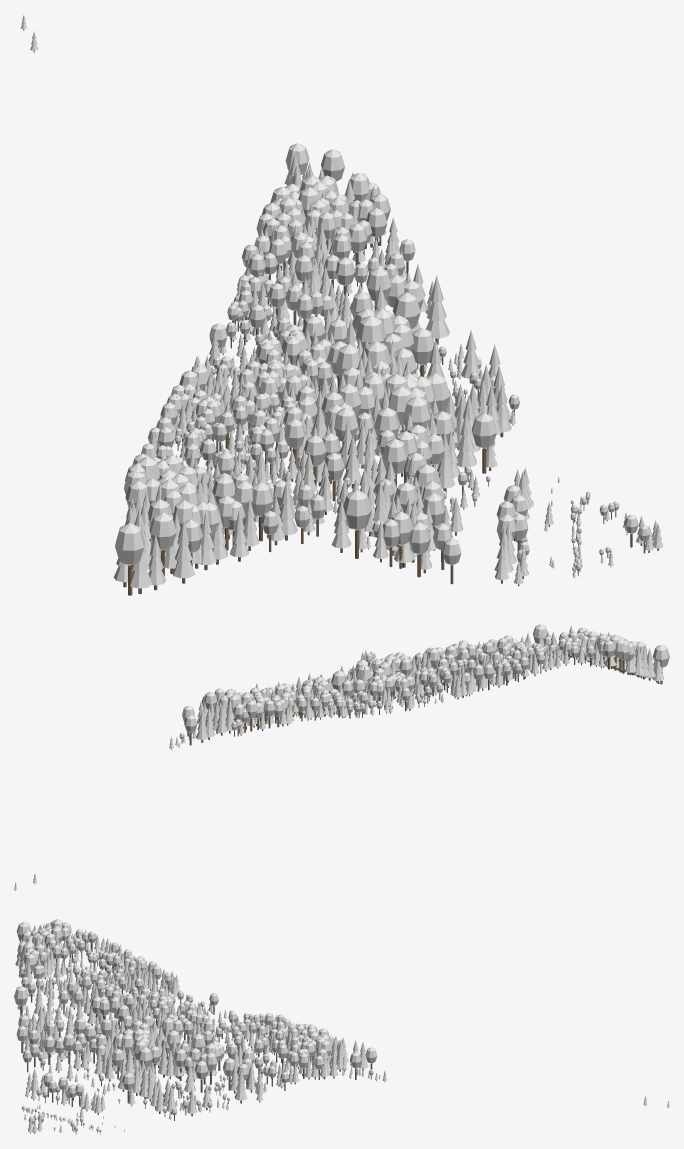
File: stromy.glb
3 views of the same model, one above another, from view 1: azimuth 30°, elevation 25°; view 2: azimuth 150°, elevation 25°; view 3: azimuth 270°, elevation 25° (orthographic). The views are drawn at different scales.
Parts seen in each view (by area): view 1: Stromy_Listnate_06_03, Stromy_Ihlicnate_06_03; view 2: Stromy_Listnate_06_03, Stromy_Ihlicnate_06_03; view 3: Stromy_Listnate_06_03, Stromy_Ihlicnate_06_03.
Boxes of the visible parts, x1=… form: Stromy_Listnate_06_03: x1=115, y1=143, x2=650, y2=595; Stromy_Ihlicnate_06_03: x1=21, y1=15, x2=663, y2=594; Stromy_Listnate_06_03: x1=179, y1=624, x2=669, y2=745; Stromy_Ihlicnate_06_03: x1=14, y1=625, x2=664, y2=890; Stromy_Listnate_06_03: x1=14, y1=919, x2=377, y2=1134; Stromy_Ihlicnate_06_03: x1=15, y1=923, x2=669, y2=1133.
Size of the model in its own units: 309 by 104 by 629.
